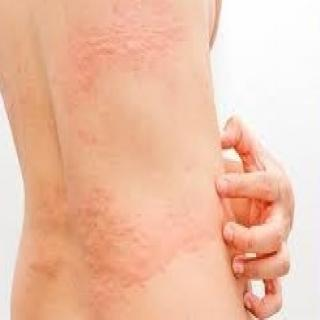urticaria: (47, 170, 219, 299), (42, 1, 191, 92)
